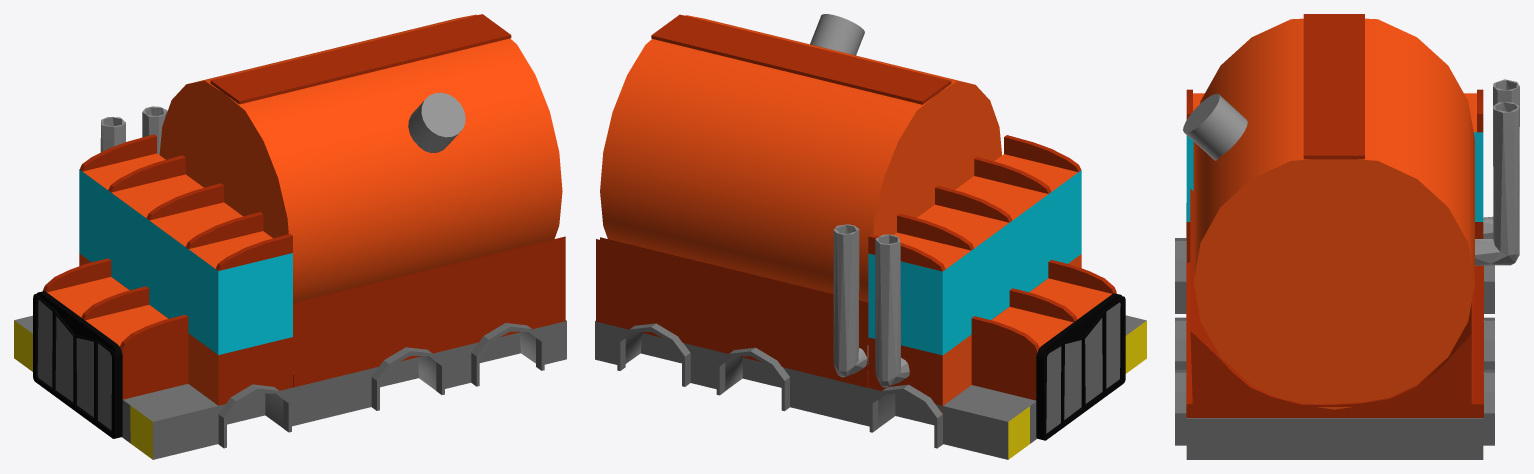
Rendered from Grua (4).fbx.
The picture shows the model from 3 angles, left to right: view 1: azimuth 30°, elevation 25°; view 2: azimuth 150°, elevation 25°; view 3: azimuth 270°, elevation 25°; orthographic projection. The views are drawn at different scales.
Visible parts, largest first — view 1: Gua; view 2: Gua; view 3: Gua.
Boxes of the visible parts, x1,y1,x2,y2 form: Gua: (14,14,566,459); Gua: (595,14,1146,459); Gua: (1175,14,1519,459).
Bounding box in the file's own units: 1292 × 831 × 854.
